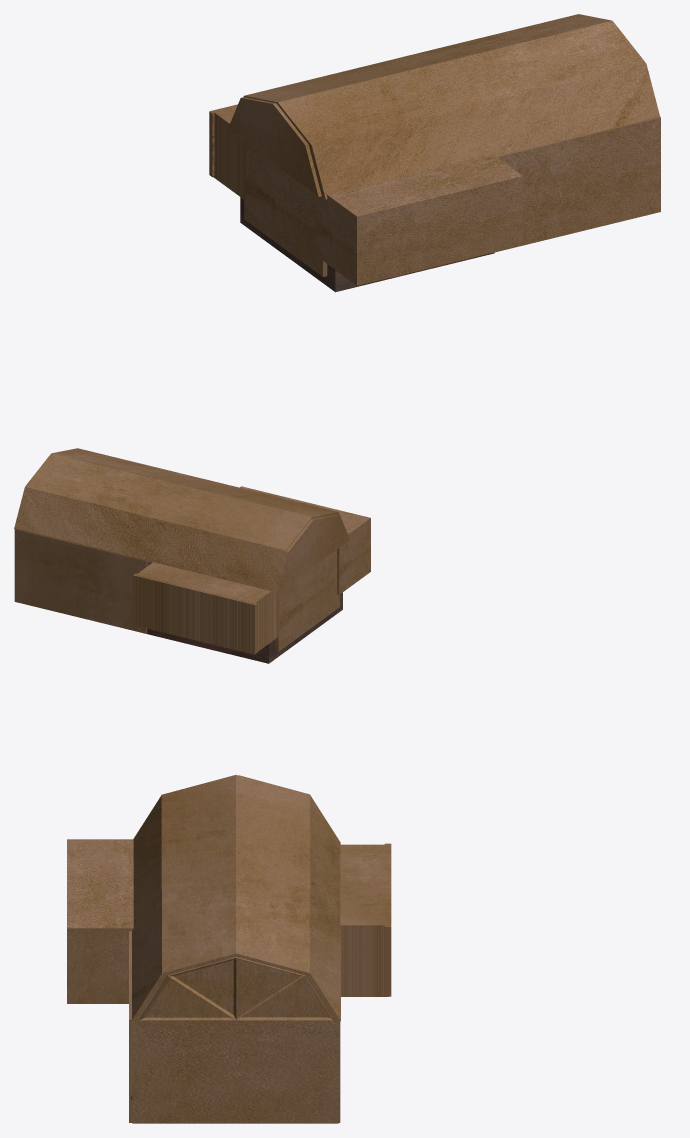
Rendered from lubbynew.fbx.
The picture shows the model from 3 angles, top to bottom: view 1: azimuth 30°, elevation 25°; view 2: azimuth 150°, elevation 25°; view 3: azimuth 270°, elevation 25°; orthographic projection. The views are drawn at different scales.
Parts seen in each view (by area): view 1: pCylinder65, pCube92, polySurface843, pCube82, pCube254, pCube74; view 2: pCylinder65, pCube254, polySurface874, pCube82, pCube92, pCube74; view 3: pCylinder65, polySurface898, pCube92, pCube254, polySurface843.
Boxes of the visible parts, x1,y1,x2,y2 form: pCylinder65: (227,14,659,199); pCube92: (316,153,523,285); polySurface843: (492,116,660,252); pCube82: (244,143,327,276); pCube254: (209,104,245,200); pCube74: (240,197,494,292); pCylinder65: (14,448,349,592); pCube254: (133,562,279,654); polySurface874: (14,528,147,633); pCube82: (275,549,339,651); pCube92: (240,486,370,594); pCube74: (146,592,342,663); pCylinder65: (131,775,340,1021); polySurface898: (132,1020,338,1123); pCube92: (67,839,133,1003); pCube254: (340,843,391,996); polySurface843: (129,931,132,1122).
Size of the model in its own units: 675 by 147 by 504.
